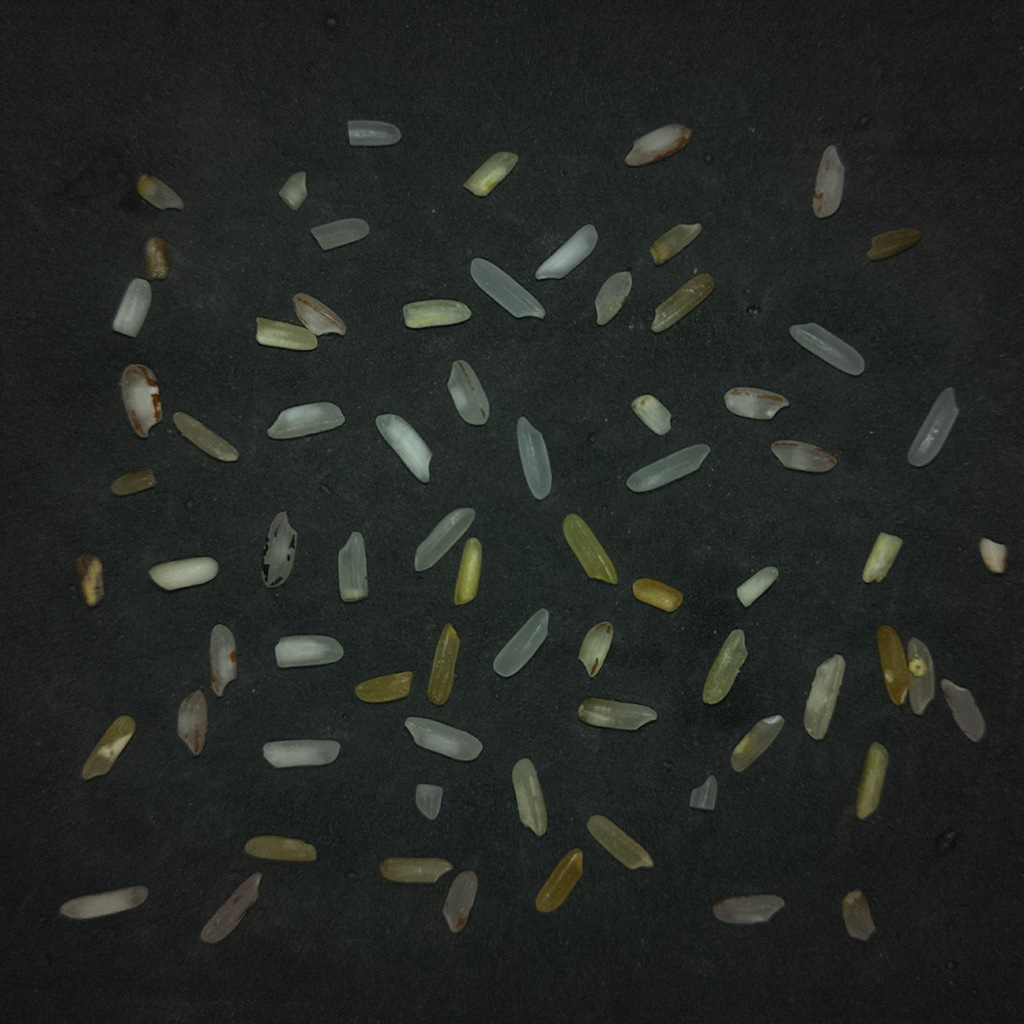broken: (173, 412, 238, 461), (267, 402, 344, 439), (512, 758, 547, 836), (338, 531, 367, 602), (595, 271, 632, 325), (402, 299, 469, 328), (311, 218, 369, 250), (347, 120, 400, 146), (689, 774, 717, 811), (415, 784, 443, 820)
chalky: (375, 413, 431, 483), (535, 224, 597, 279), (60, 886, 148, 919), (112, 278, 152, 338), (148, 556, 218, 590), (262, 739, 340, 769), (274, 635, 342, 668), (736, 566, 778, 606), (278, 171, 307, 210), (979, 538, 1006, 574)
damaged: (200, 872, 262, 944), (805, 655, 845, 739), (262, 512, 296, 587), (650, 223, 702, 265), (907, 638, 935, 714), (841, 890, 876, 941), (136, 174, 183, 209), (631, 394, 671, 435), (75, 553, 104, 606), (145, 236, 170, 280)
discolored: (563, 513, 617, 584), (651, 274, 714, 332), (587, 815, 652, 869), (81, 715, 135, 779), (702, 629, 747, 704), (730, 714, 783, 772), (536, 848, 582, 912), (877, 625, 910, 705), (427, 623, 459, 705), (577, 698, 657, 730), (463, 151, 518, 196), (856, 742, 888, 819), (862, 532, 902, 582), (255, 318, 317, 350), (244, 835, 316, 861), (380, 857, 451, 883), (454, 537, 481, 605), (354, 672, 413, 703), (867, 228, 921, 260), (632, 578, 682, 612), (111, 467, 154, 495)
red: (121, 364, 162, 437), (625, 123, 691, 166), (447, 360, 489, 425), (293, 292, 346, 336), (812, 145, 844, 217), (443, 870, 478, 933), (771, 439, 835, 473), (724, 386, 789, 419), (713, 894, 784, 924), (177, 690, 207, 755), (210, 624, 237, 696), (579, 621, 613, 677)
whole: (470, 258, 545, 318), (626, 444, 709, 492), (789, 322, 864, 375), (908, 388, 958, 467), (414, 507, 475, 571), (493, 608, 548, 677), (404, 716, 482, 761), (517, 416, 551, 499), (940, 679, 985, 741)
